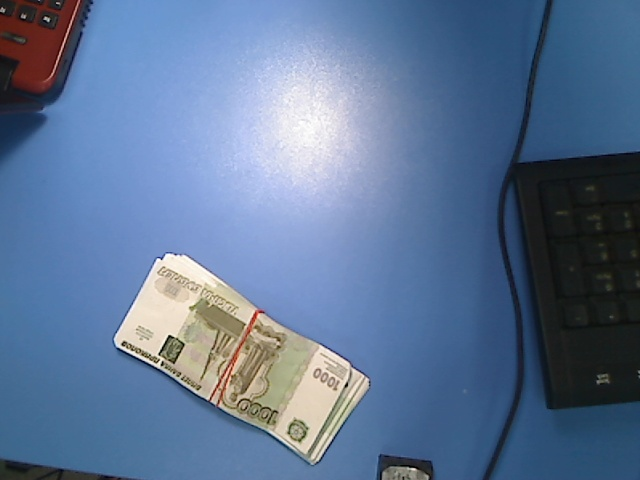banknotes: (111, 251, 373, 468)
